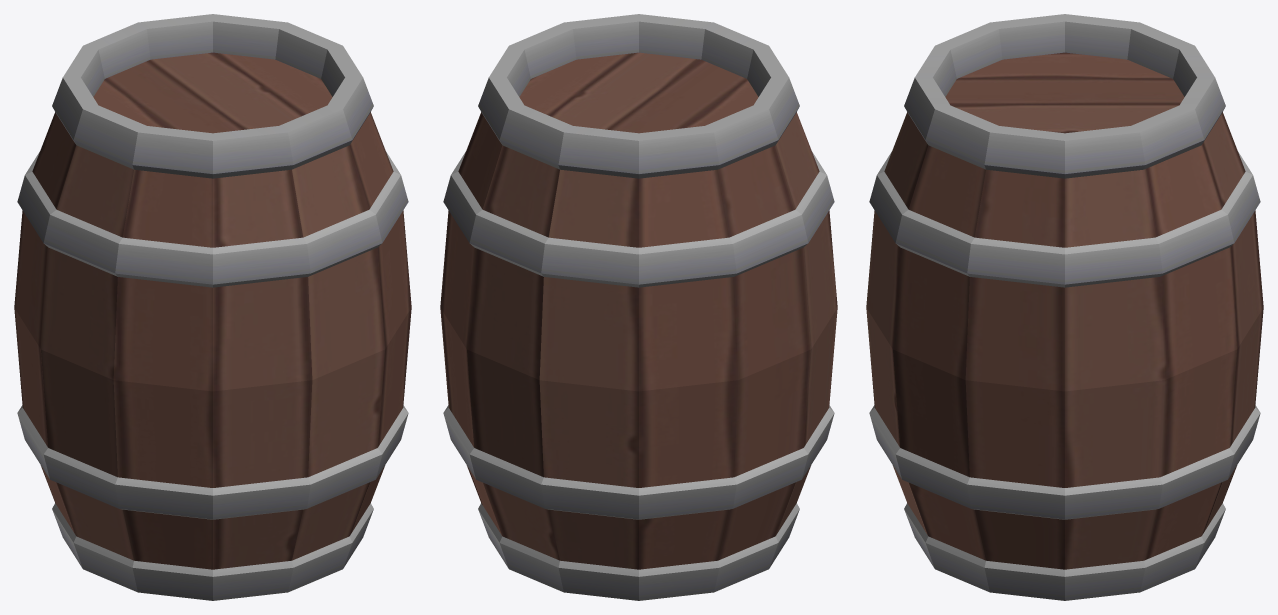
Rendered from Barrel.fbx.
3 renders of one model, left to right at view 1: azimuth 30°, elevation 25°; view 2: azimuth 150°, elevation 25°; view 3: azimuth 270°, elevation 25°, orthographic.
Parts seen in each view (by area): view 1: Barrel; view 2: Barrel; view 3: Barrel.
Part boxes in pixels (<box>): Barrel: <box>14,14,411,600</box>; Barrel: <box>440,14,837,600</box>; Barrel: <box>866,14,1263,600</box>.
Size of the model in its own units: 90.79 by 116 by 90.79.
